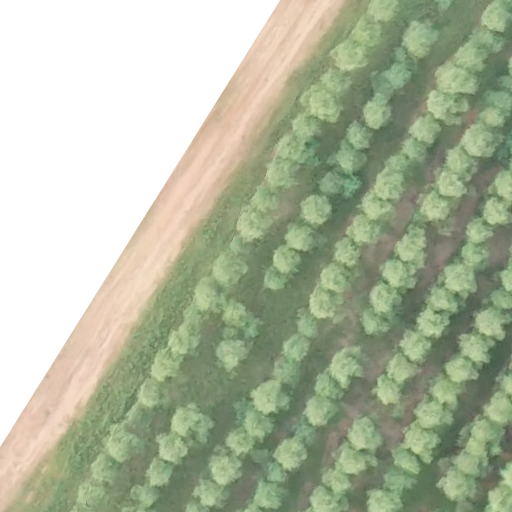eucalipto: (327, 346, 370, 388), (302, 84, 344, 124), (391, 229, 434, 268), (333, 442, 377, 479), (401, 422, 440, 463), (168, 405, 210, 442), (424, 90, 467, 126), (379, 258, 420, 295), (434, 63, 477, 98), (104, 427, 143, 465), (207, 448, 246, 486), (458, 124, 499, 160), (473, 308, 512, 343), (253, 381, 293, 415), (276, 134, 317, 167), (429, 377, 471, 409), (361, 93, 395, 132), (457, 332, 496, 366), (439, 466, 473, 505), (452, 449, 492, 482), (210, 254, 247, 289), (368, 285, 405, 320), (329, 39, 367, 73), (214, 338, 252, 372), (347, 416, 381, 454), (403, 21, 436, 60), (467, 415, 506, 448), (307, 282, 339, 320), (358, 308, 396, 340), (165, 326, 200, 360), (470, 21, 504, 56), (372, 376, 407, 410), (442, 147, 483, 176), (399, 328, 432, 364), (284, 222, 323, 252), (264, 159, 299, 192), (443, 264, 478, 297), (332, 236, 364, 272), (426, 285, 463, 316), (433, 171, 472, 200), (347, 215, 380, 249), (150, 350, 182, 385), (299, 194, 334, 226), (421, 191, 453, 226), (348, 18, 384, 49), (334, 142, 370, 173), (274, 440, 311, 470), (415, 402, 454, 430), (303, 397, 337, 429), (359, 191, 395, 221), (251, 479, 287, 509), (311, 482, 347, 512), (193, 279, 220, 317), (453, 42, 487, 72), (320, 264, 354, 294), (224, 426, 258, 456), (291, 111, 322, 143), (345, 120, 376, 152), (480, 1, 511, 33), (408, 117, 440, 148), (374, 170, 407, 200), (273, 356, 303, 389), (294, 303, 320, 341), (243, 411, 278, 439), (318, 173, 360, 196), (235, 214, 267, 244), (282, 332, 312, 364), (313, 373, 345, 403), (156, 434, 185, 467), (194, 479, 227, 508), (387, 358, 420, 387), (440, 357, 478, 382), (416, 314, 452, 340), (143, 456, 173, 487), (271, 244, 300, 276), (366, 1, 403, 26), (321, 468, 356, 494), (482, 198, 512, 228), (461, 243, 491, 273), (465, 216, 496, 245), (140, 379, 167, 412), (364, 486, 398, 512), (486, 392, 512, 426), (248, 187, 280, 214), (391, 448, 421, 476), (320, 69, 351, 96), (86, 456, 117, 483), (403, 136, 430, 167), (77, 481, 104, 511), (478, 106, 508, 130), (386, 64, 412, 90), (486, 287, 512, 312), (263, 268, 289, 292), (494, 168, 512, 200), (384, 152, 409, 172), (498, 264, 512, 293)
